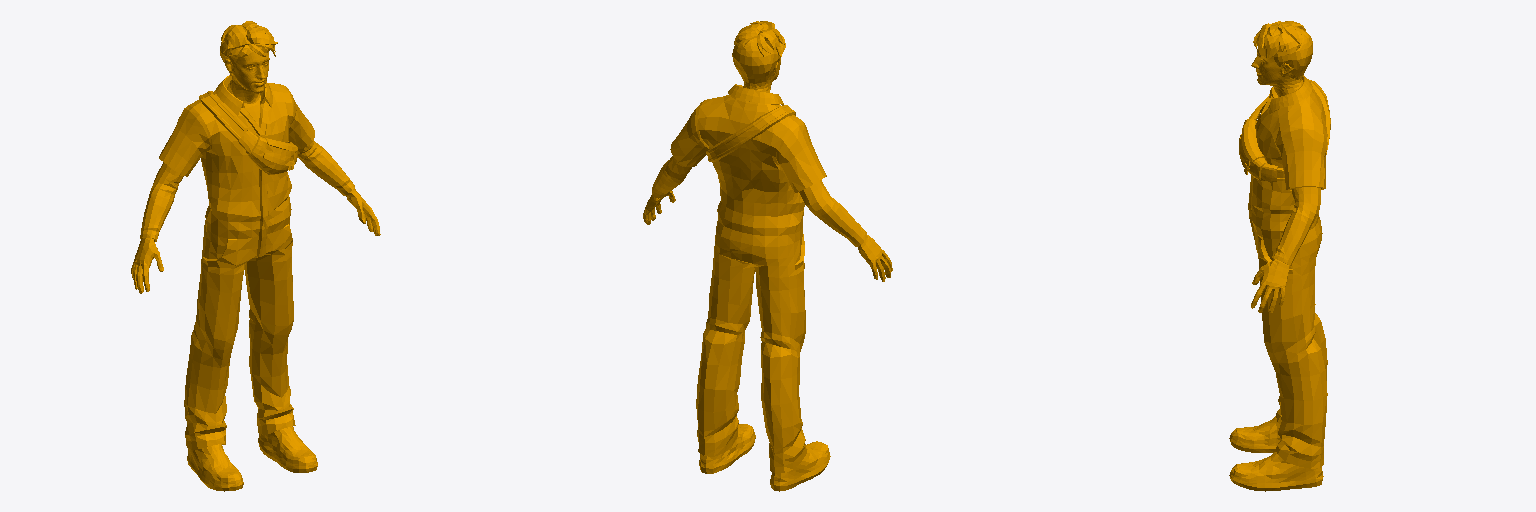
robot.urdf — mesh_object:
<robot name="mesh_object">
            <link name="base">
                <visual>
                    <geometry>
                        <mesh filename="coverall_0.obj" scale="1 1 1" />
                    </geometry>
                </visual>
                <collision>
                    <geometry>
                        <mesh filename="coverall_0.obj" scale="1 1 1" />
                    </geometry>
                </collision>
                <inertial>
                    <origin xyz="0.000000 0.000000 0.090488" rpy="0 0 0" />
                    <mass value="0.5" />
                    <inertia ixx="0.01" iyy="0.01" izz="0.01" ixy="0" ixz="0" iyz="0" />
                </inertial>
            </link>
            </robot>

--- Facts derived from the render (not from the file) ---
The picture shows the robot from 3 angles, left to right: view 1: azimuth 30°, elevation 25°; view 2: azimuth 150°, elevation 25°; view 3: azimuth 270°, elevation 25°; orthographic projection.
Model mesh_object with 1 links and 0 joints (none), rooted at base, posed all joints at 0.
Visible links, largest first — view 1: base; view 2: base; view 3: base.
Boxes of the visible links, x1=… form: base: x1=131, y1=21, x2=380, y2=491; base: x1=643, y1=21, x2=892, y2=491; base: x1=1229, y1=21, x2=1330, y2=491.
Size in the robot's own frame: 0.1031 by 0.0375 by 0.181 metres.
Meshes: 1 distinct files referenced, 1 mesh visuals loaded (1 OBJ).
